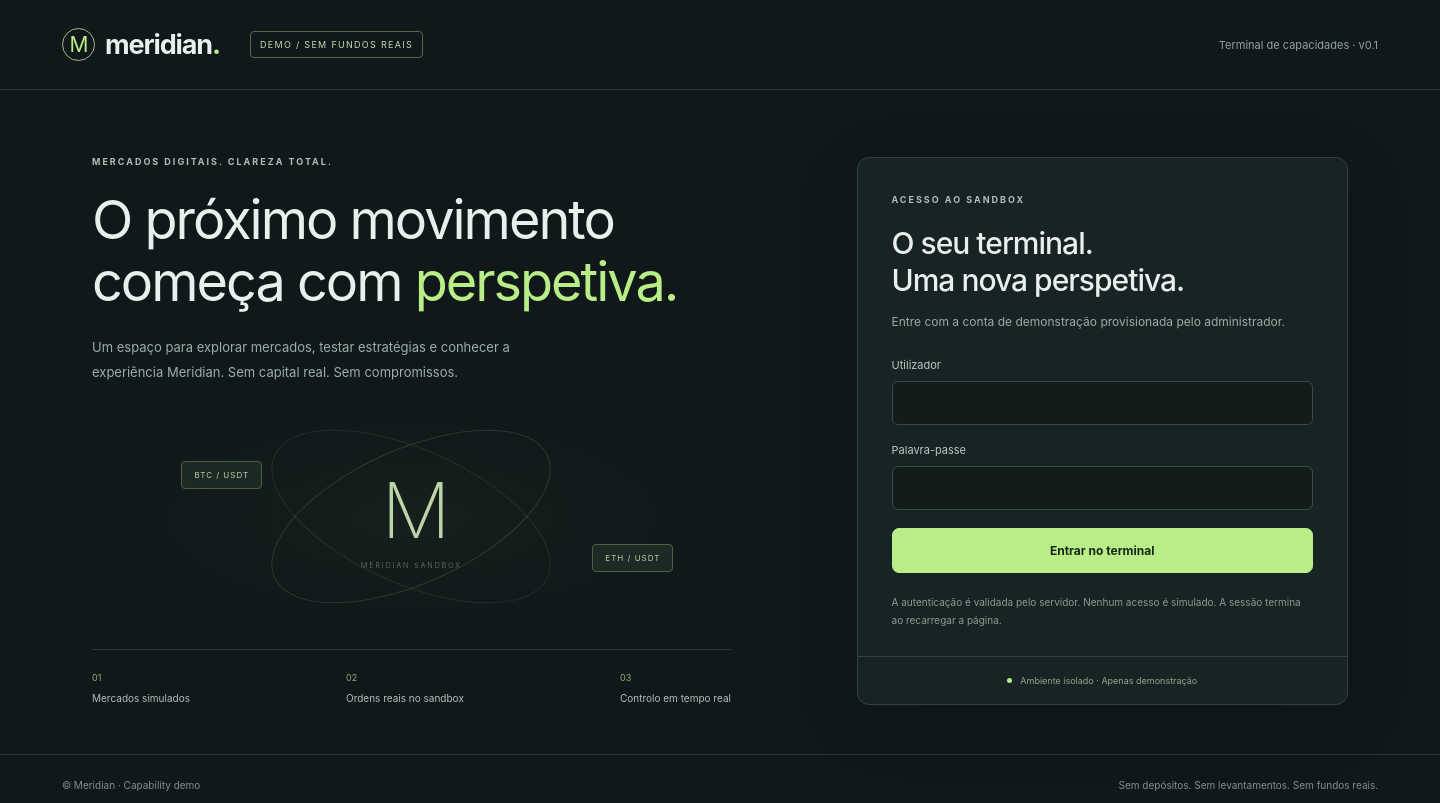
Test: authenticated terminal loads contract data and submits decimal strings for a limit buy
Type "tester" into the field labelled "Utilizador" at {"x": 1102, "y": 403}, box [892, 381, 1313, 425]
Type "test-only" into the password field labelled "Palavra-passe" at {"x": 1102, "y": 488}, box [892, 466, 1313, 510]
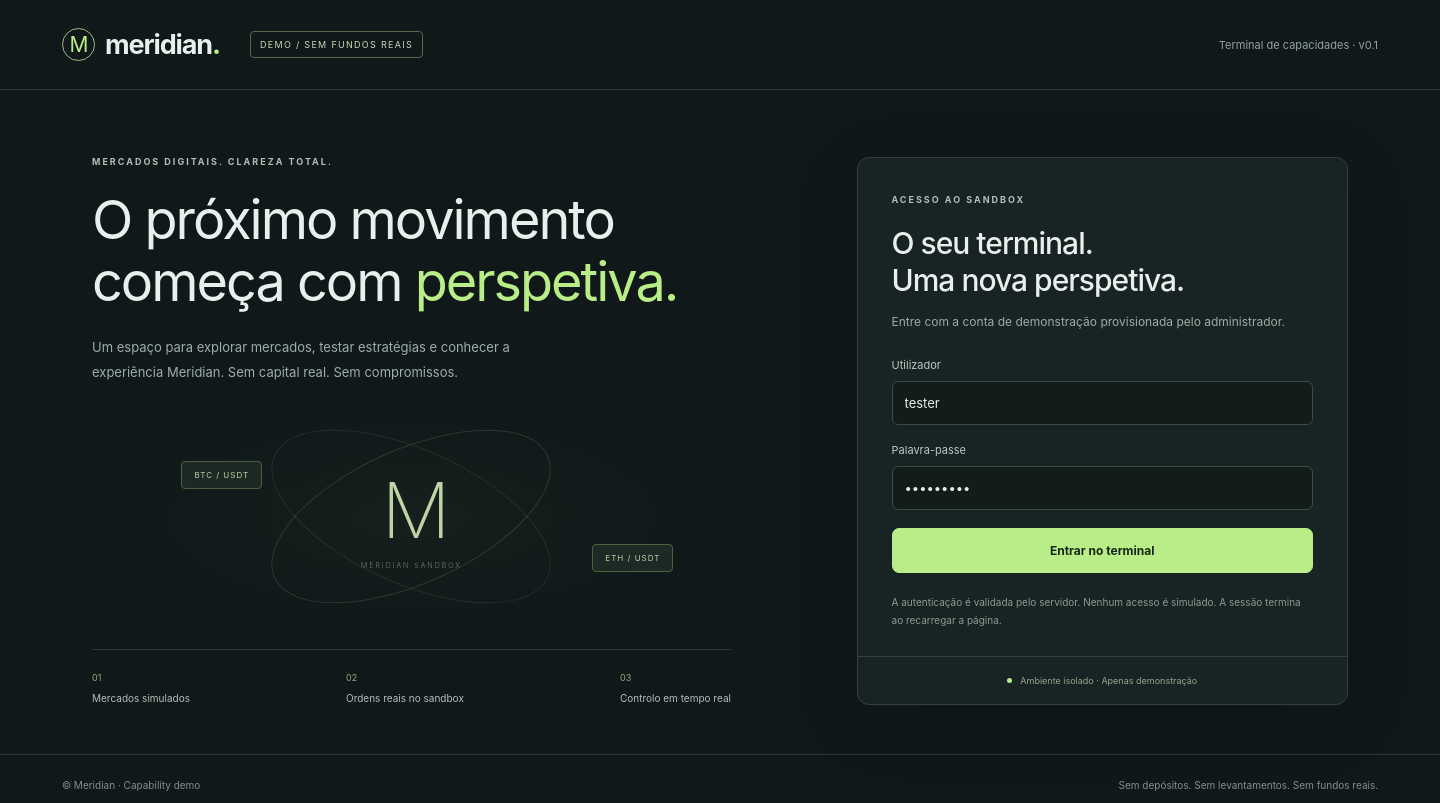
Click the button "Entrar no terminal" at {"x": 1102, "y": 550}, box [892, 528, 1313, 573]
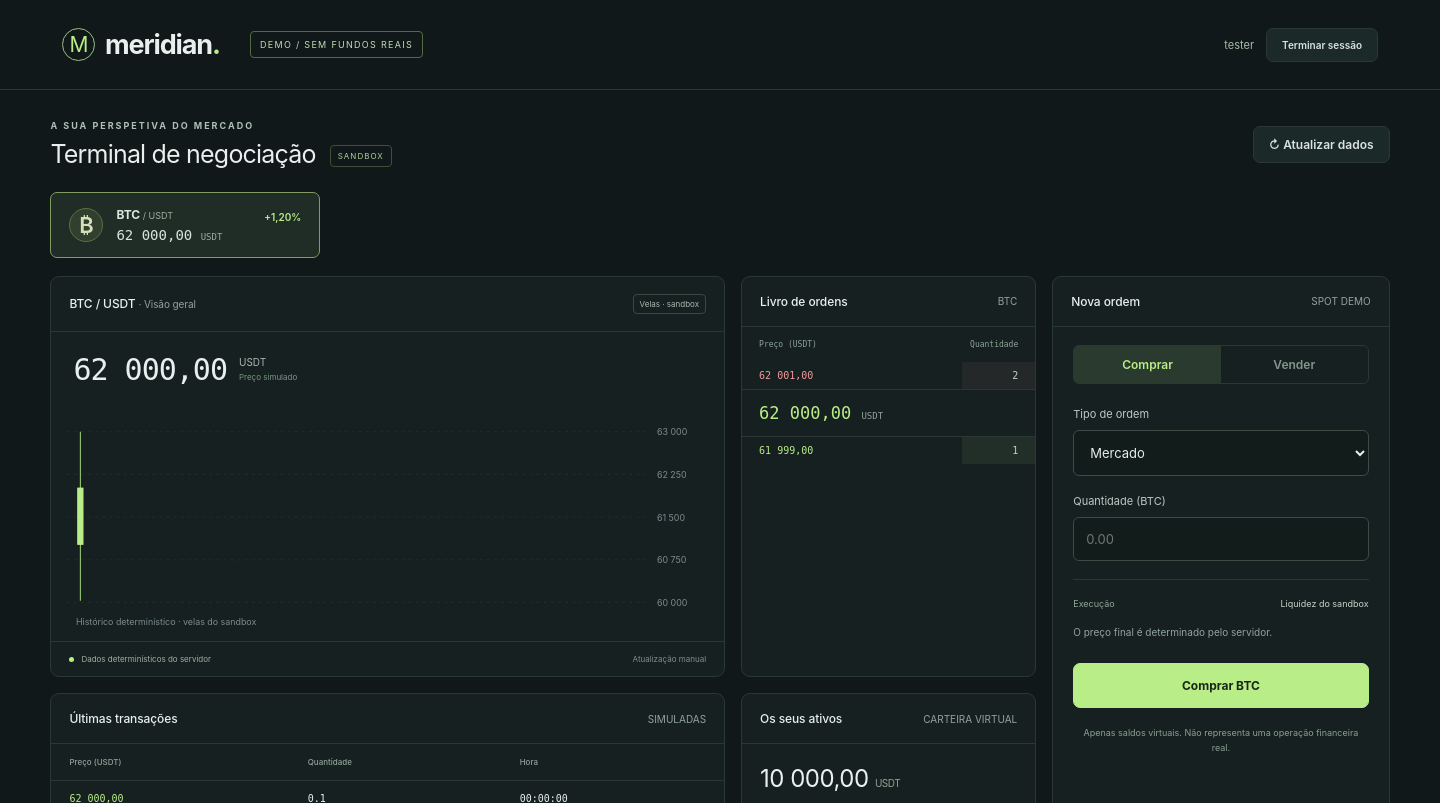
Check: the heading "Livro de ordens" is shown, box [760, 294, 848, 309]
Check: the picture named "Gráfico" is shown, box [51, 391, 724, 641]
Select "Limite" in the dropdown labelled "Tipo de ordem" at {"x": 1221, "y": 453}, box [1073, 430, 1369, 476]
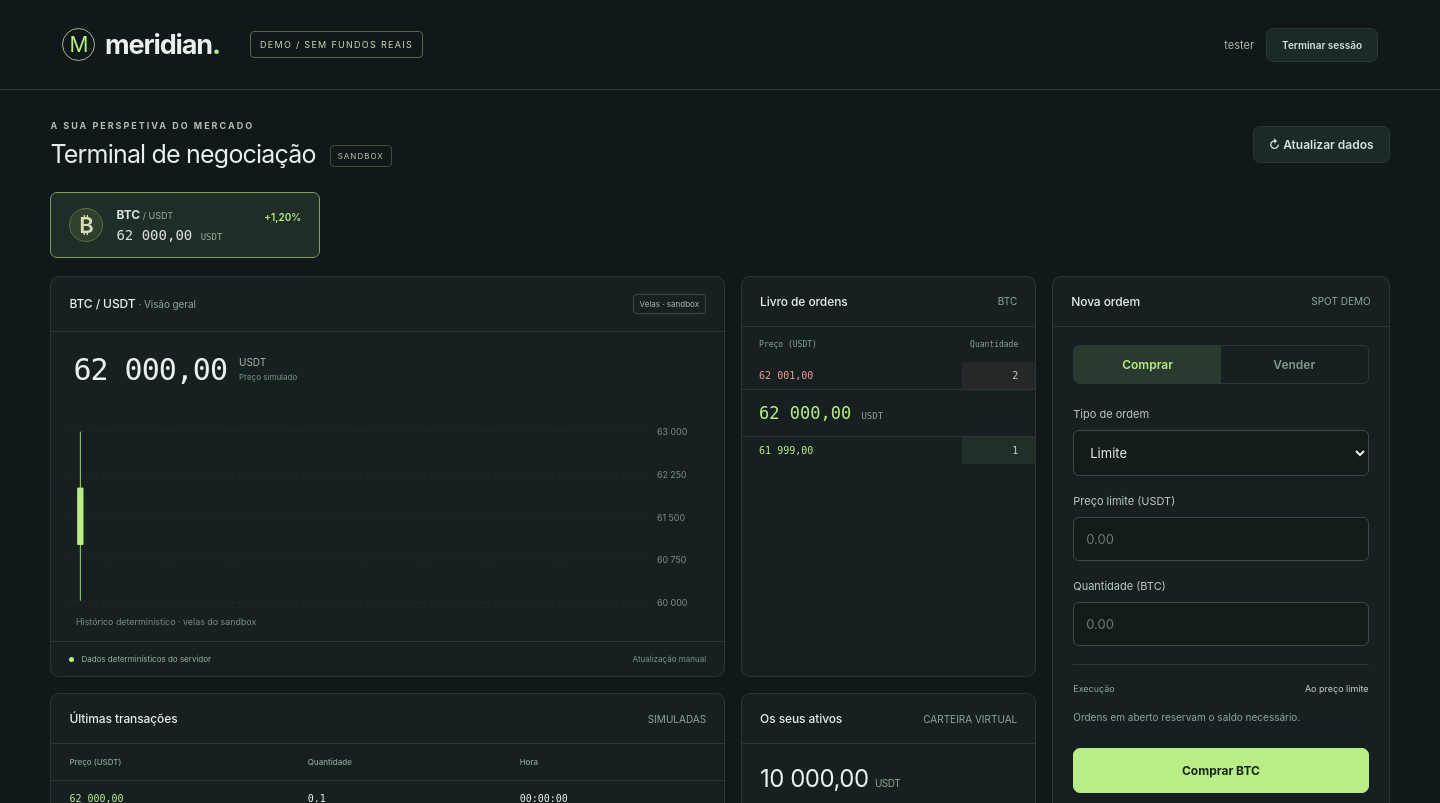
Type "0.01" into the field labelled "Quantidade (BTC)" at {"x": 1221, "y": 624}, box [1073, 602, 1369, 646]
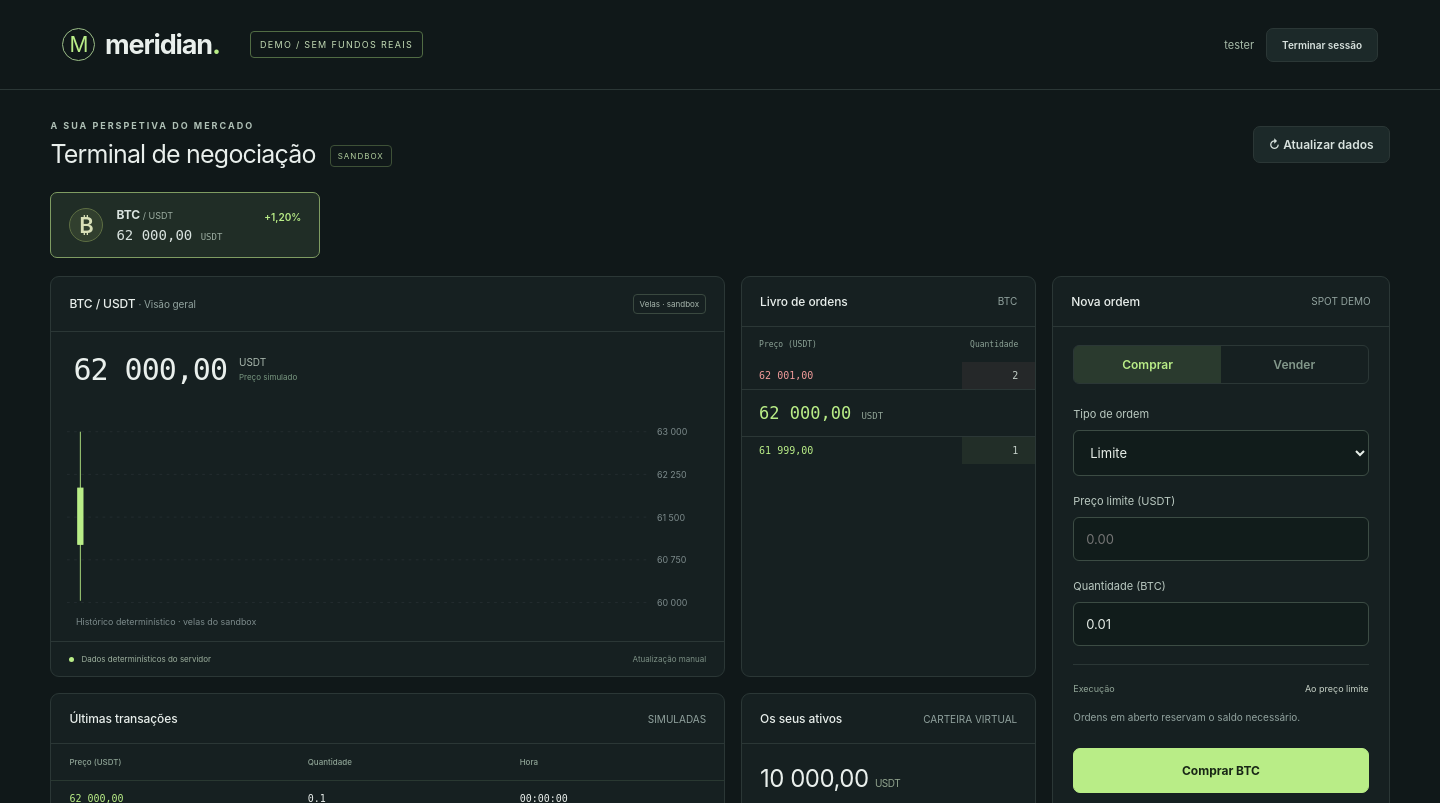
Type "60000" into the field labelled "Preço limite (USDT)" at {"x": 1221, "y": 539}, box [1073, 517, 1369, 561]
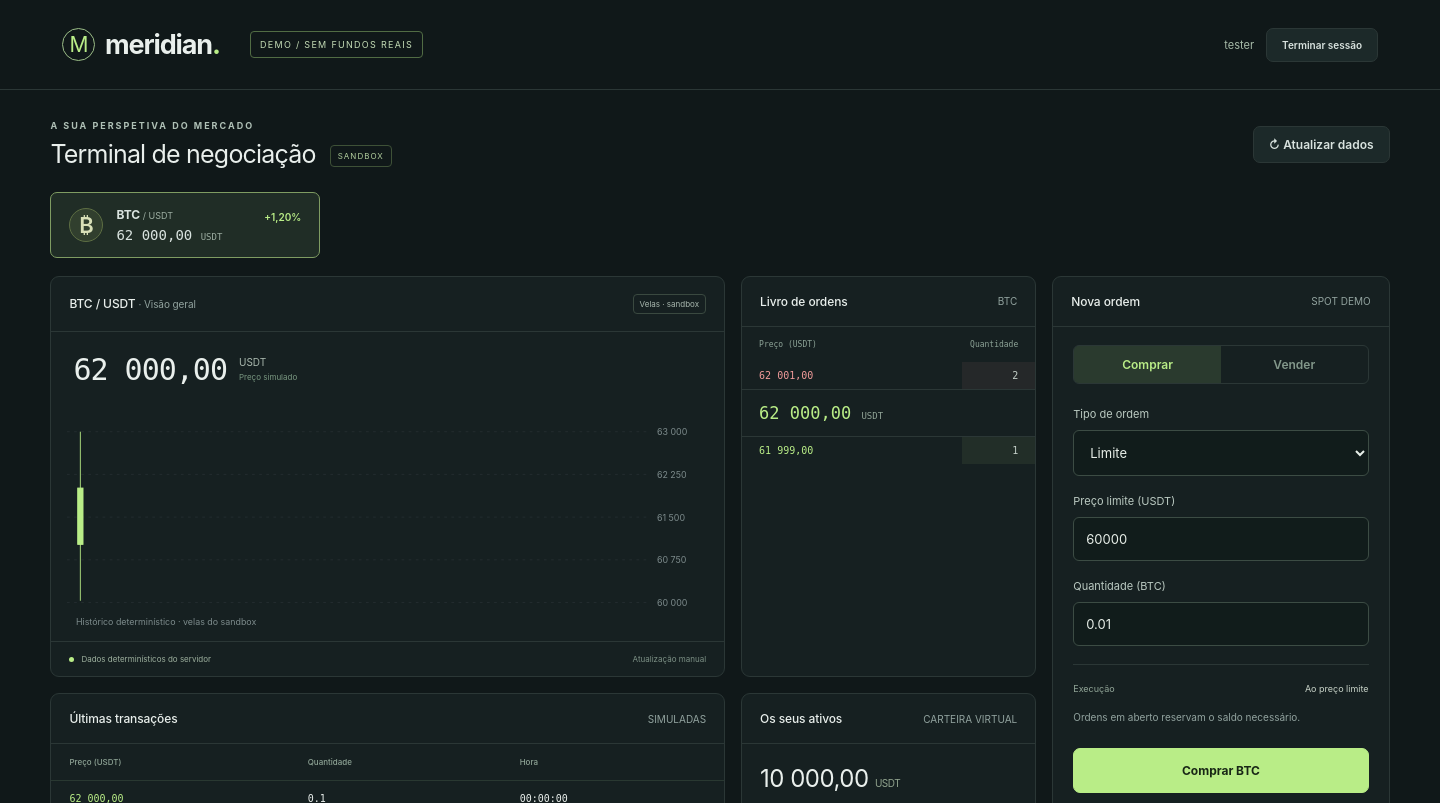
Click the button "Comprar BTC" at {"x": 1221, "y": 770}, box [1073, 748, 1369, 793]
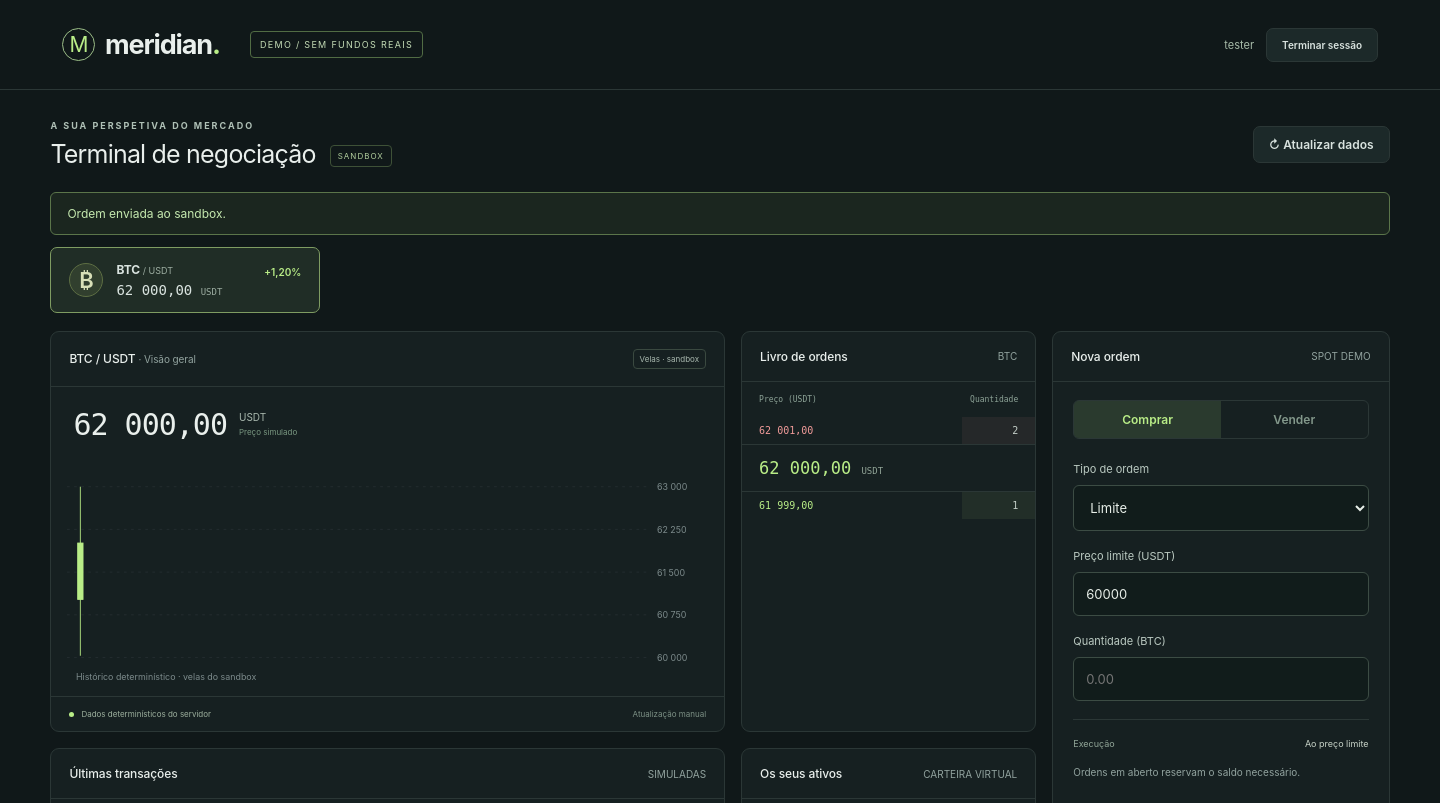
Check: the text "Ordem enviada ao sandbox." is shown, box [50, 192, 1390, 235]
